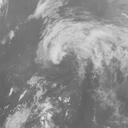cyclone: (38, 23, 96, 72)
